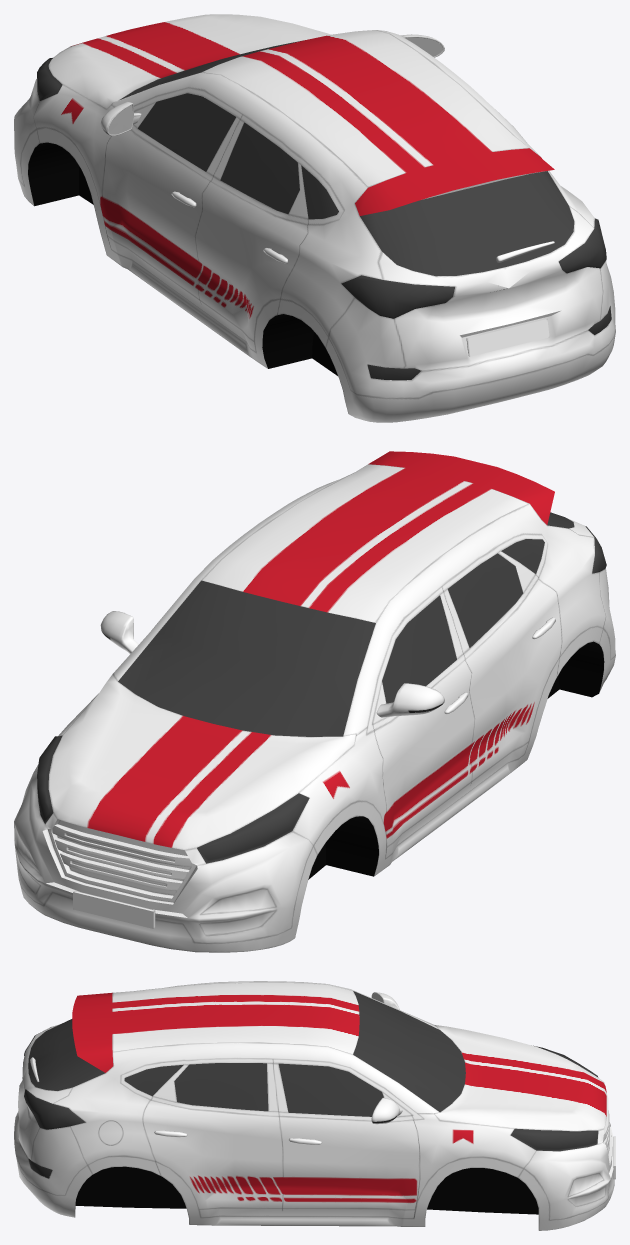
Rendered from body.glb.
3 renders of one model, top to bottom at view 1: azimuth 30°, elevation 25°; view 2: azimuth 150°, elevation 25°; view 3: azimuth 270°, elevation 25°, orthographic. The views are drawn at different scales.
Visible parts, largest first — view 1: Body; view 2: Body; view 3: Body.
Boxes of the visible parts, x1,y1,x2,y2 form: Body: (14,14,615,422); Body: (14,451,615,952); Body: (14,981,615,1230).
Bounding box in the file's own units: 1.53 × 1 × 3.16.
3 materials, 1 textured.
